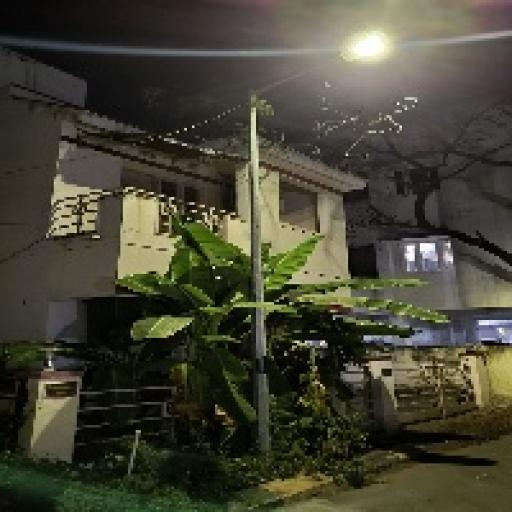Working: (330, 26, 399, 70)
